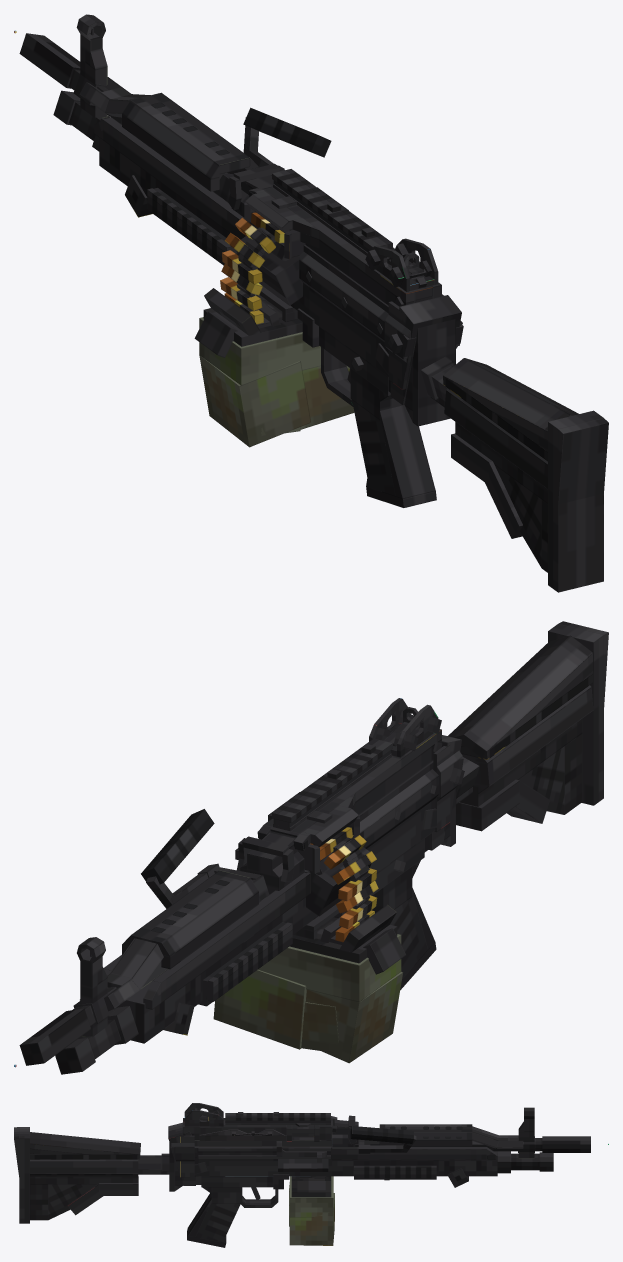
The picture shows the model from 3 angles, top to bottom: view 1: azimuth 30°, elevation 25°; view 2: azimuth 150°, elevation 25°; view 3: azimuth 270°, elevation 25°; orthographic projection. The views are drawn at different scales.
Parts seen in each view (by area): view 1: gun_139, magazine_10, cover_83, carryhandle_5; view 2: gun_139, magazine_10, cover_83, carryhandle_5, bullet6_2, bullet5_2, bullet4_2; view 3: gun_139, cover_83, magazine_10, carryhandle_5, action_6.
Part boxes in pixels (x1,y1,x2,y2): gun_139: (19, 14, 608, 592); magazine_10: (194, 288, 354, 447); cover_83: (245, 169, 442, 306); carryhandle_5: (243, 107, 331, 167); gun_139: (19, 621, 608, 1074); magazine_10: (213, 904, 405, 1063); cover_83: (257, 698, 442, 850); carryhandle_5: (141, 809, 261, 908); bullet6_2: (324, 835, 366, 869); bullet5_2: (332, 851, 376, 884); bullet4_2: (338, 868, 376, 901); gun_139: (14, 1107, 590, 1247); cover_83: (183, 1103, 337, 1141); magazine_10: (289, 1176, 334, 1245); carryhandle_5: (350, 1126, 416, 1153); action_6: (276, 1141, 326, 1162).
Size of the model in its own units: 1.17 by 1.78 by 7.03.
